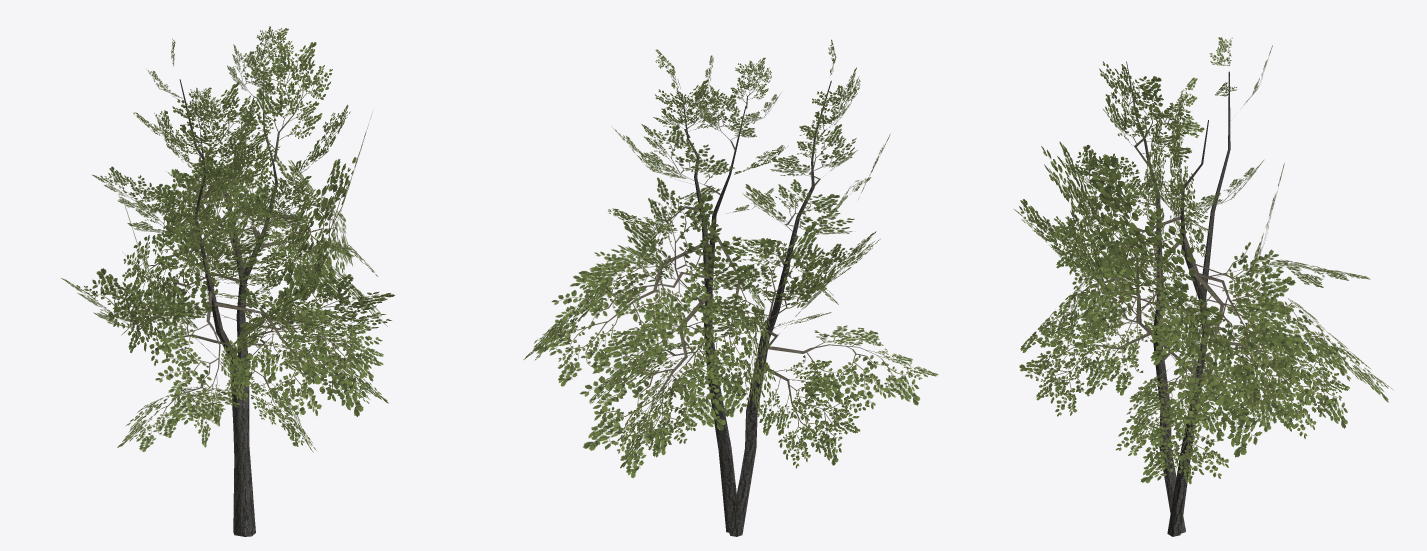
Rendered from tree-05.glb.
3 renders of one model, left to right at view 1: azimuth 30°, elevation 25°; view 2: azimuth 150°, elevation 25°; view 3: azimuth 270°, elevation 25°, orthographic. The views are drawn at different scales.
Visible parts, largest first — view 1: Tree-02-1; view 2: Tree-02-1; view 3: Tree-02-1.
Boxes of the visible parts, <box> form: Tree-02-1: <box>61,26,394,536</box>; Tree-02-1: <box>523,39,938,536</box>; Tree-02-1: <box>1014,37,1392,536</box>.
Bounding box in the file's own units: 5.64 × 7.39 × 5.71.
3 materials, 3 textured.
